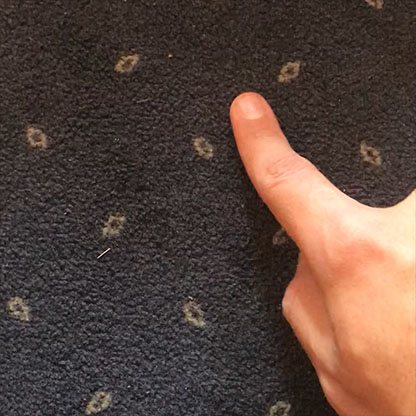fingertip: (221, 93, 286, 138)
